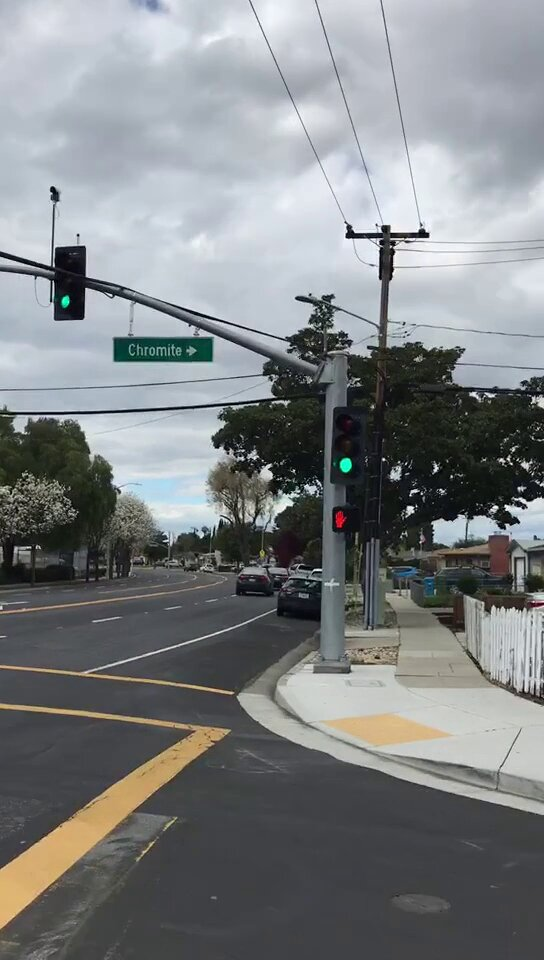green_light: (332, 406, 364, 482), (55, 247, 83, 320)
